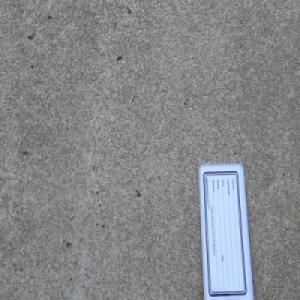LuggageTag: (196, 158, 256, 300)
